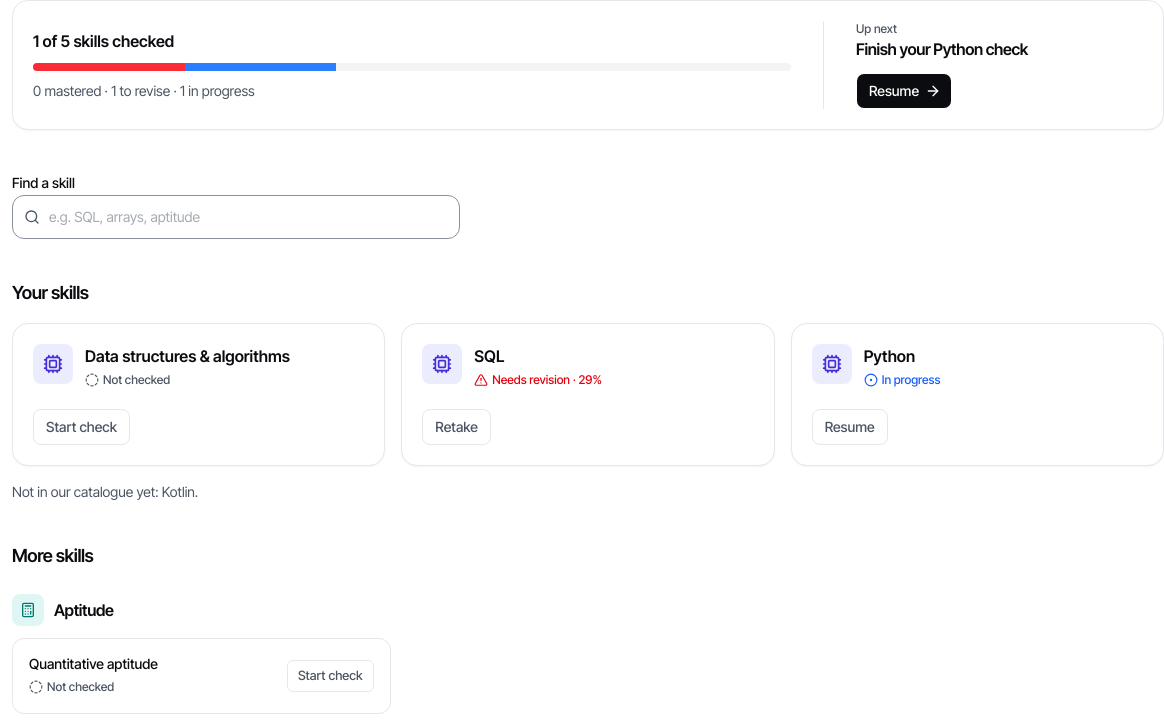
Scenario: SkillChecks › finds skills by search and explains an empty result
Type "team" into the search field labelled "Find a skill" at {"x": 236, "y": 217}, box x1=12 y1=195 x2=460 y2=239
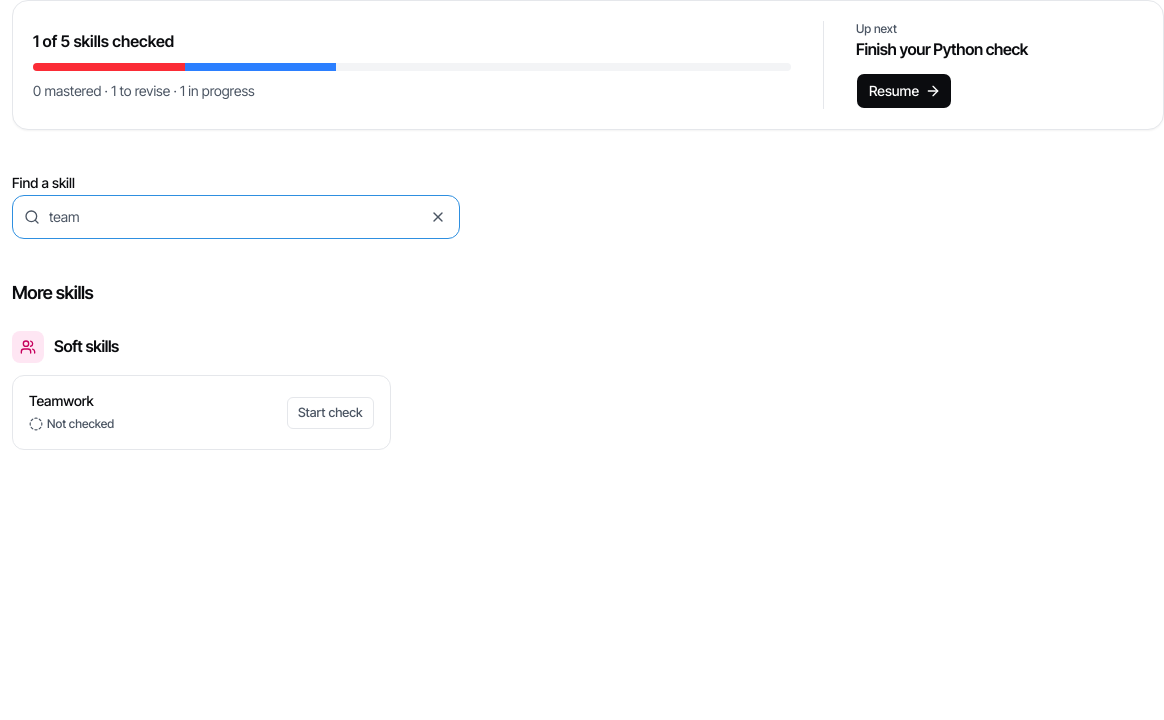
Expected: the button with aria-label "Start check — Teamwork" is shown, x1=287 y1=397 x2=374 y2=429
Result: the link "Data structures & algorithms" is gone
Replace the text in the search field labelled "Find a skill" with "cobol" at {"x": 236, "y": 217}, box x1=12 y1=195 x2=460 y2=239
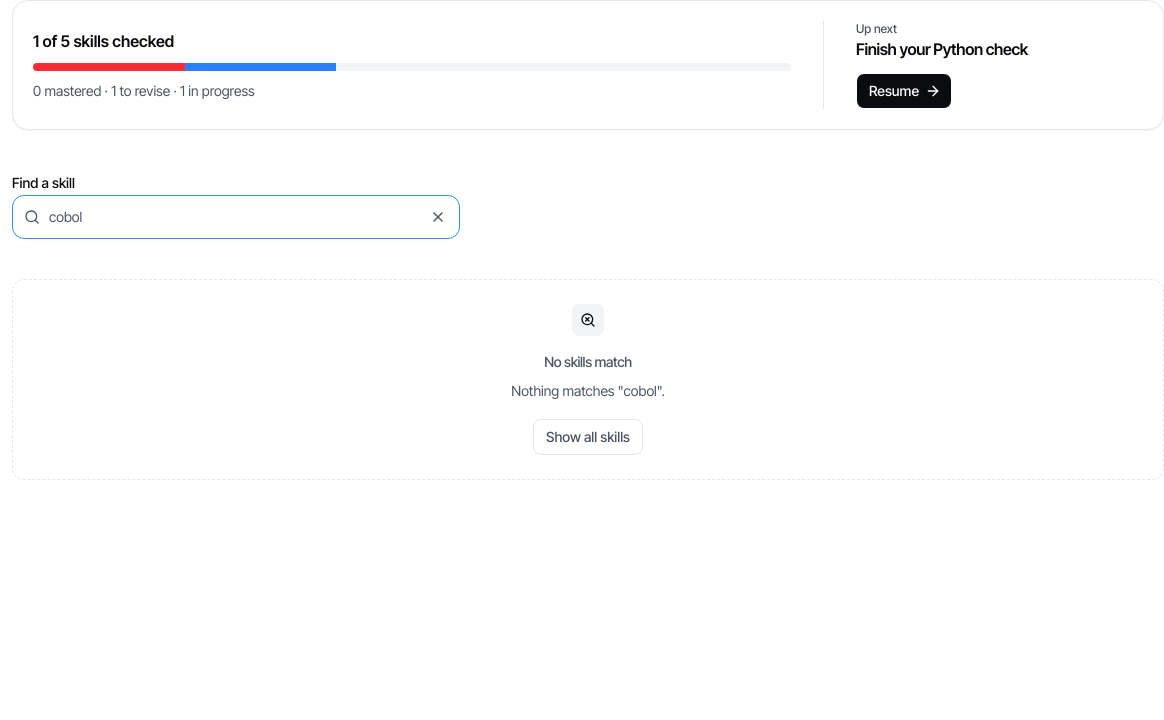
Result: the text "No skills match" is shown at x1=544 y1=352 x2=632 y2=372
Click the button "Show all skills" at {"x": 588, "y": 436}, box x1=533 y1=418 x2=643 y2=454
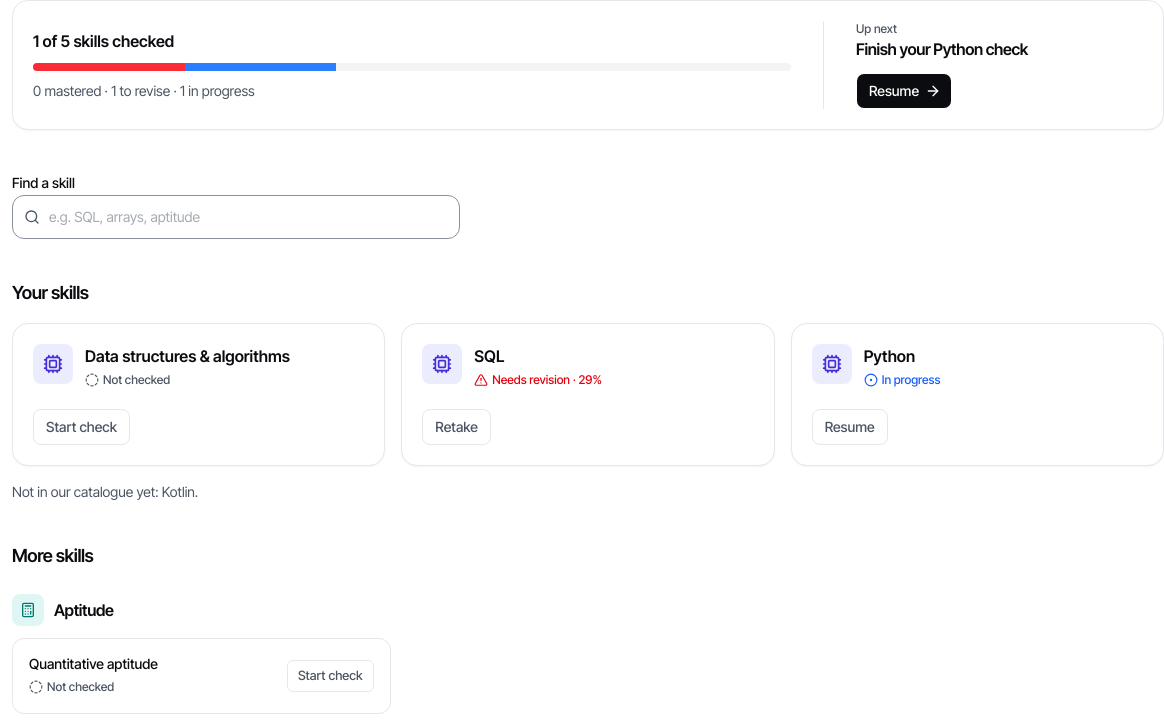
Result: the link "Python" is shown at x1=864 y1=346 x2=915 y2=366
